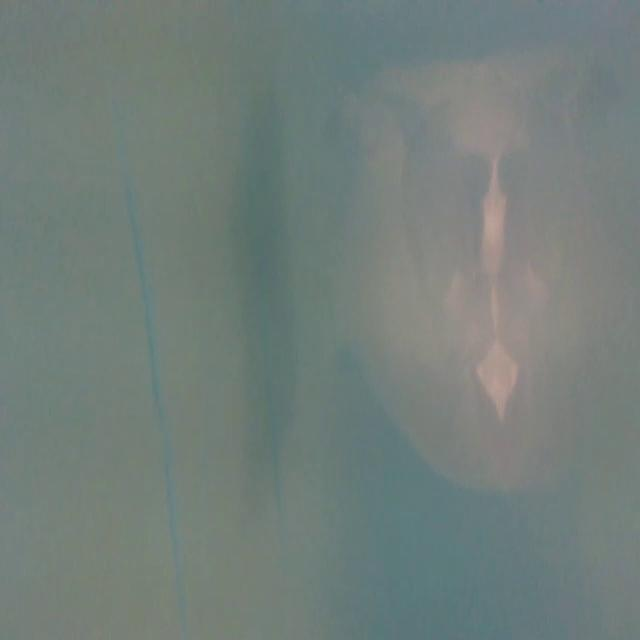plastic bags: (286, 52, 582, 496)
